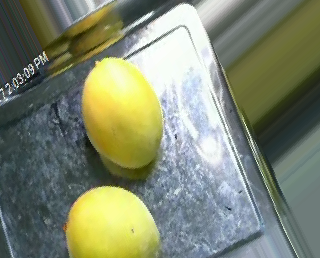Mango: (73, 52, 166, 173), (59, 180, 159, 256)
